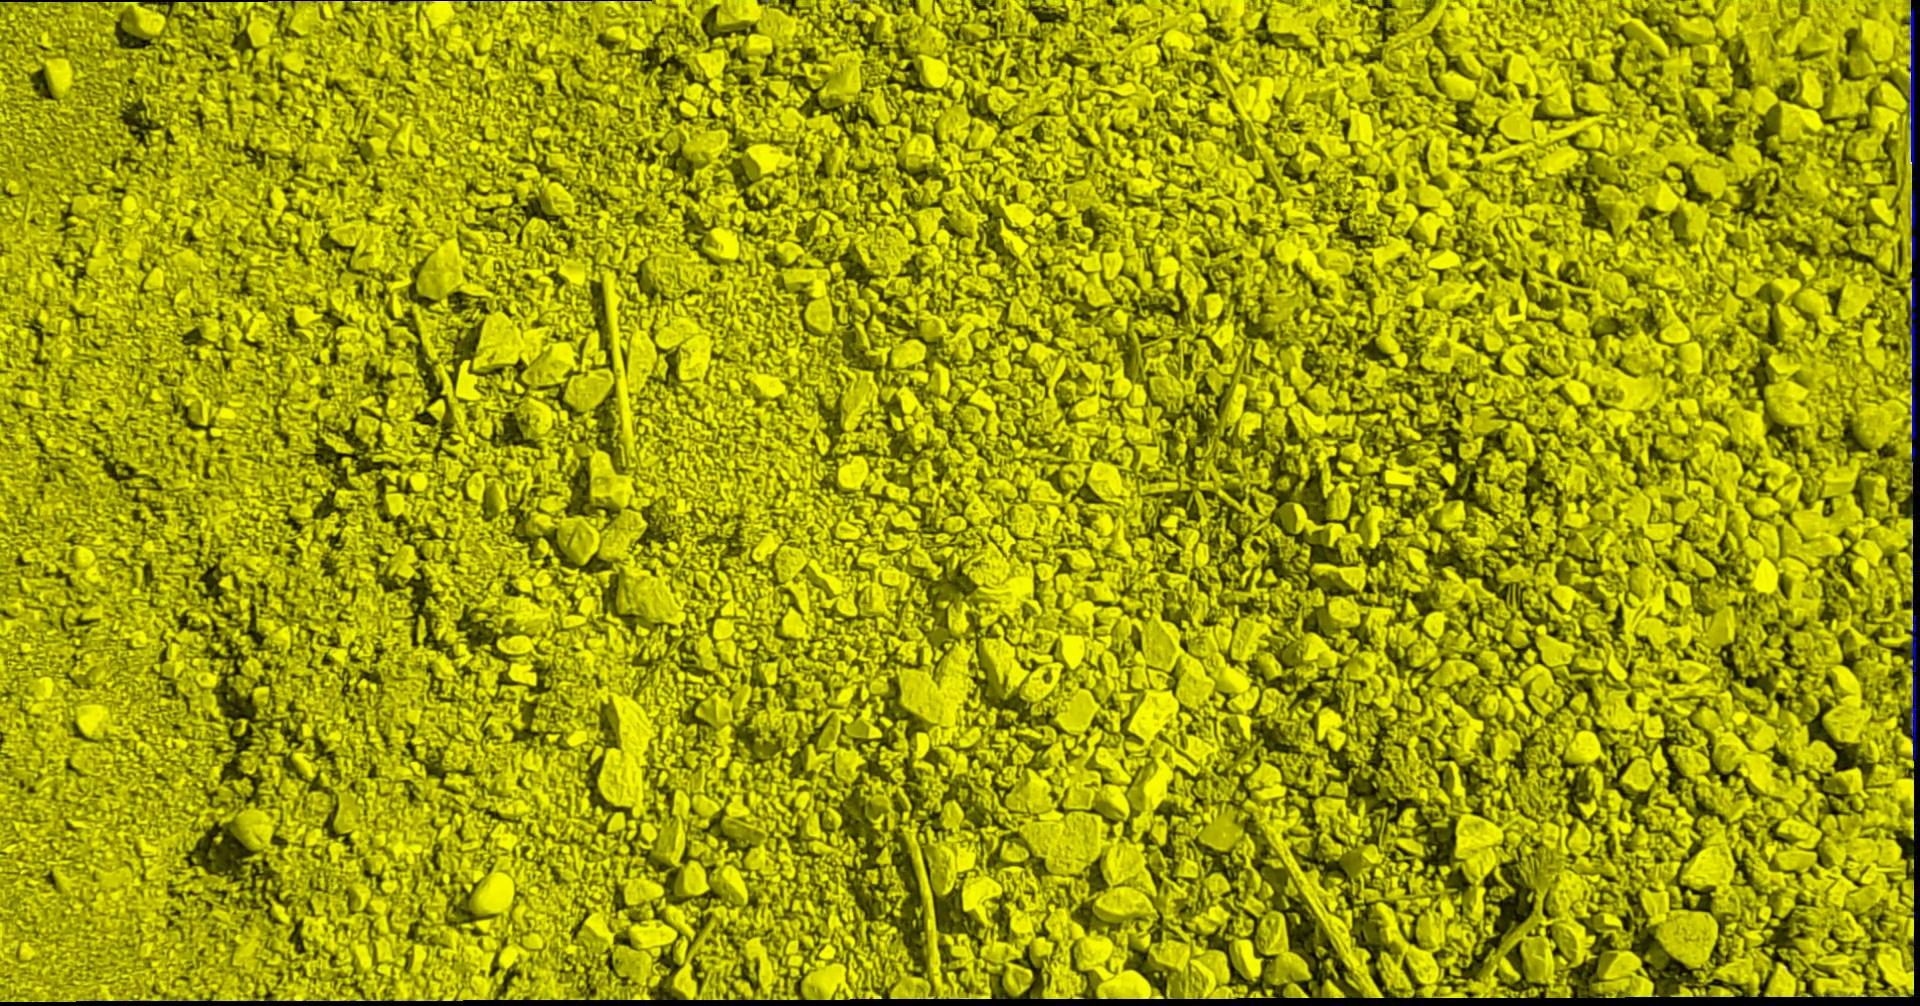ant: (1911, 276, 1917, 439), (1910, 8, 1916, 170), (1912, 614, 1917, 760), (1912, 188, 1917, 260)
